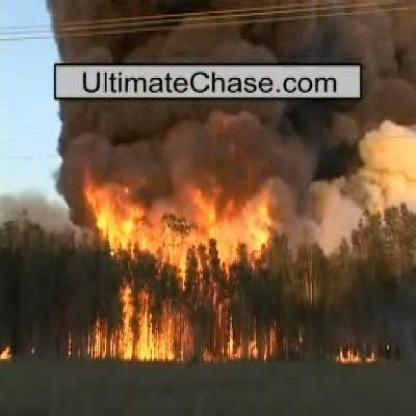-: (60, 98, 388, 180), (53, 2, 371, 60)
foggia-v2-map80-epoch100 - v1 4323: (120, 325, 166, 361)
